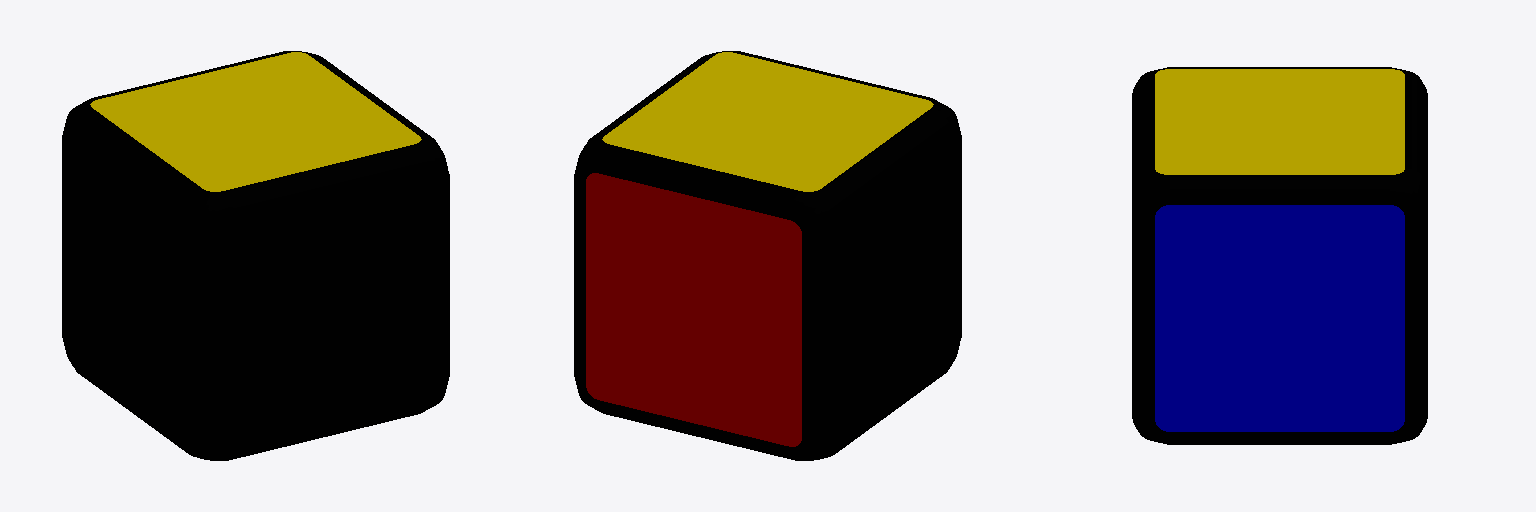
The model's file is corner_bry.obj.
3 renders of one model, left to right at view 1: azimuth 30°, elevation 25°; view 2: azimuth 150°, elevation 25°; view 3: azimuth 270°, elevation 25°, orthographic.
Parts seen in each view (by area): view 1: Cube; view 2: Cube; view 3: Cube.
Part boxes in pixels (x1,y1,x2,y2): Cube: (62, 51, 449, 460); Cube: (574, 51, 961, 460); Cube: (1132, 67, 1427, 444).
Bounding box in the file's own units: 2 × 2 × 2.